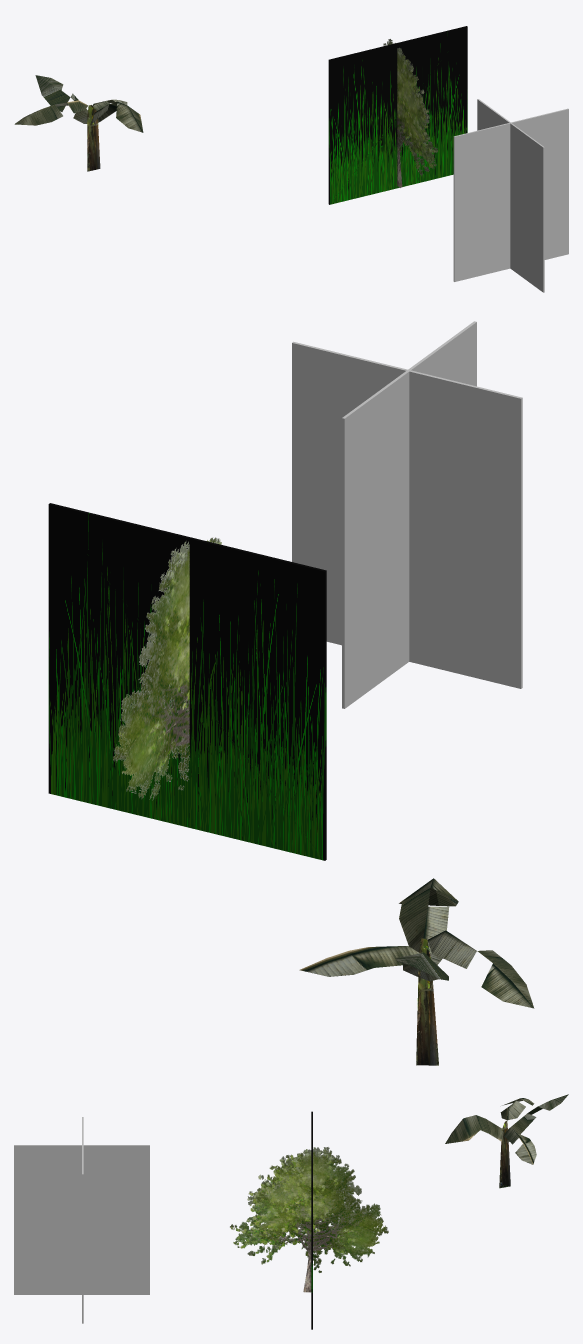
File: Pohon 1.fbx
3 renders of one model, top to bottom at view 1: azimuth 30°, elevation 25°; view 2: azimuth 150°, elevation 25°; view 3: azimuth 270°, elevation 25°, orthographic. The views are drawn at different scales.
Visible parts, largest first — view 1: pngwing.com (1).001, pngwing.com (3).001, Cone.003, Cone.001, Cone.004, Cone; view 2: pngwing.com (1).001, pngwing.com (3).001, Cone.004, Cone.001, Cone.002, Cone; view 3: pngwing.com (3).001, pngwing.com (1).001, Cone.001, Cone.002, Cone, Cone.003, Cone.004.
Part boxes in pixels (bbox=[...]): pngwing.com (1).001: bbox=[328, 26, 467, 204]; pngwing.com (3).001: bbox=[453, 99, 568, 292]; Cone.003: bbox=[35, 75, 87, 123]; Cone.001: bbox=[90, 101, 143, 132]; Cone.004: bbox=[14, 100, 88, 125]; Cone: bbox=[87, 105, 100, 171]; pngwing.com (1).001: bbox=[48, 503, 326, 860]; pngwing.com (3).001: bbox=[292, 321, 522, 708]; Cone.004: bbox=[427, 930, 534, 1008]; Cone.001: bbox=[399, 878, 458, 964]; Cone.002: bbox=[299, 946, 419, 976]; Cone: bbox=[416, 938, 438, 1065]; pngwing.com (3).001: bbox=[14, 1117, 149, 1323]; pngwing.com (1).001: bbox=[230, 1111, 388, 1329]; Cone.001: bbox=[445, 1115, 503, 1143]; Cone.002: bbox=[504, 1127, 536, 1164]; Cone: bbox=[499, 1120, 510, 1188]; Cone.003: bbox=[507, 1094, 568, 1142]; Cone.004: bbox=[500, 1098, 534, 1120].
Size of the model in its own units: 3264 by 1311 by 4385.
